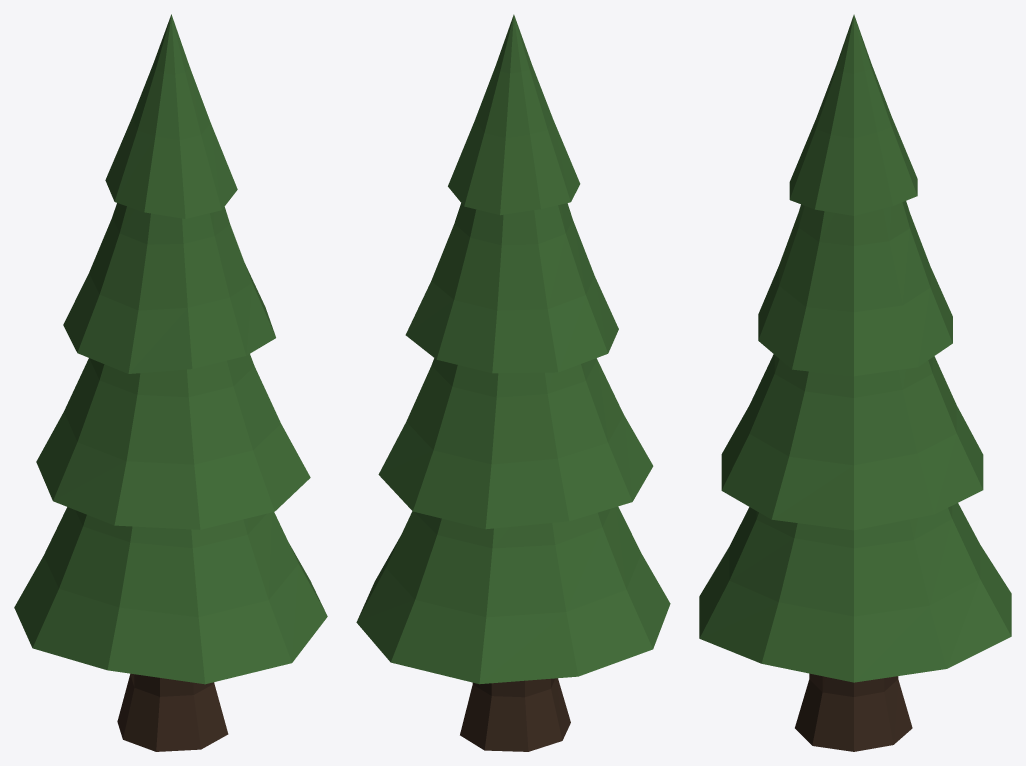
Rendered from tall-pine-tree-deep.glb.
The picture shows the model from 3 angles, left to right: view 1: azimuth 30°, elevation 25°; view 2: azimuth 150°, elevation 25°; view 3: azimuth 270°, elevation 25°; orthographic projection.
Parts seen in each view (by area): view 1: pine; view 2: pine; view 3: pine.
Boxes of the visible parts, x1,y1,x2,y2 form: pine: (14, 14, 327, 751); pine: (356, 14, 670, 751); pine: (699, 14, 1011, 751).
Size of the model in its own units: 3.67 by 9 by 3.56.
